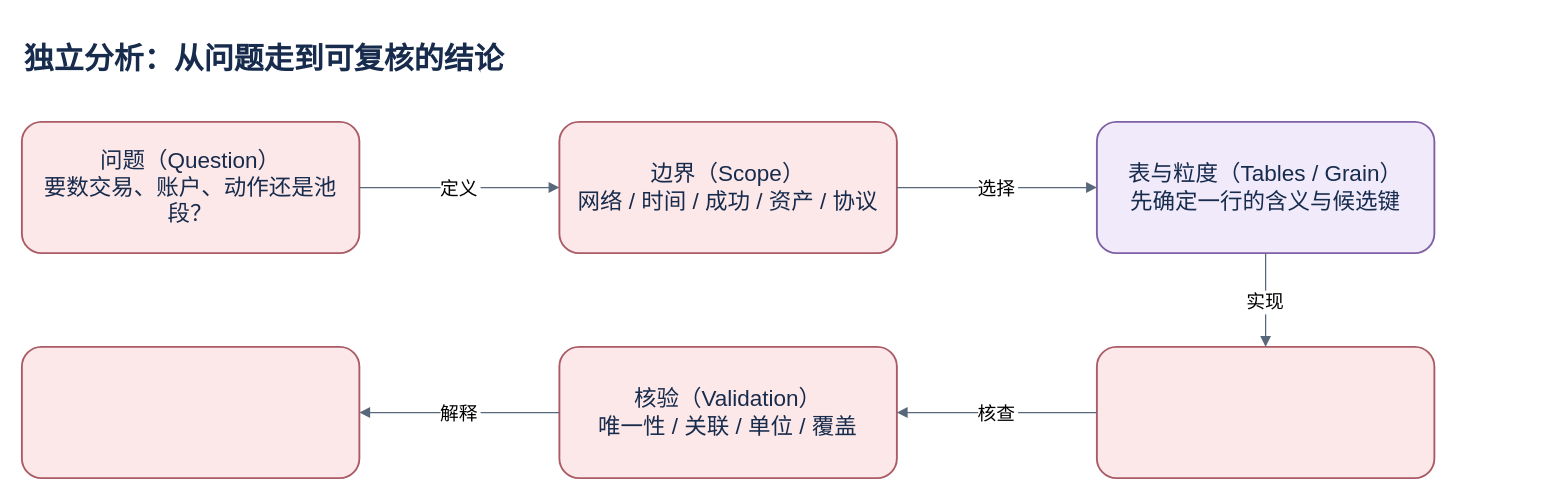
Image size: 1544x500. Some labels were removed from this diagram. The shapes that lost their labels are listed below. From the top down, each one's box as (x1, y1, x2, y2) in pixels, then its label:
(20, 345, 360, 478): 结论（Conclusion） 报告证据、范围与缺口
(1095, 345, 1435, 478): 查询（SQL） 保留身份；先小窗口验证
